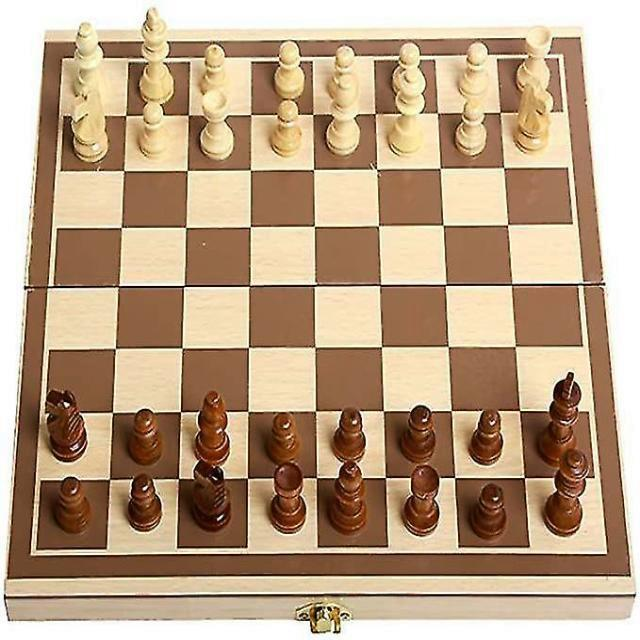chess-table-corners: (586, 530, 623, 567), (20, 534, 52, 568), (551, 42, 576, 68), (50, 46, 72, 70)
